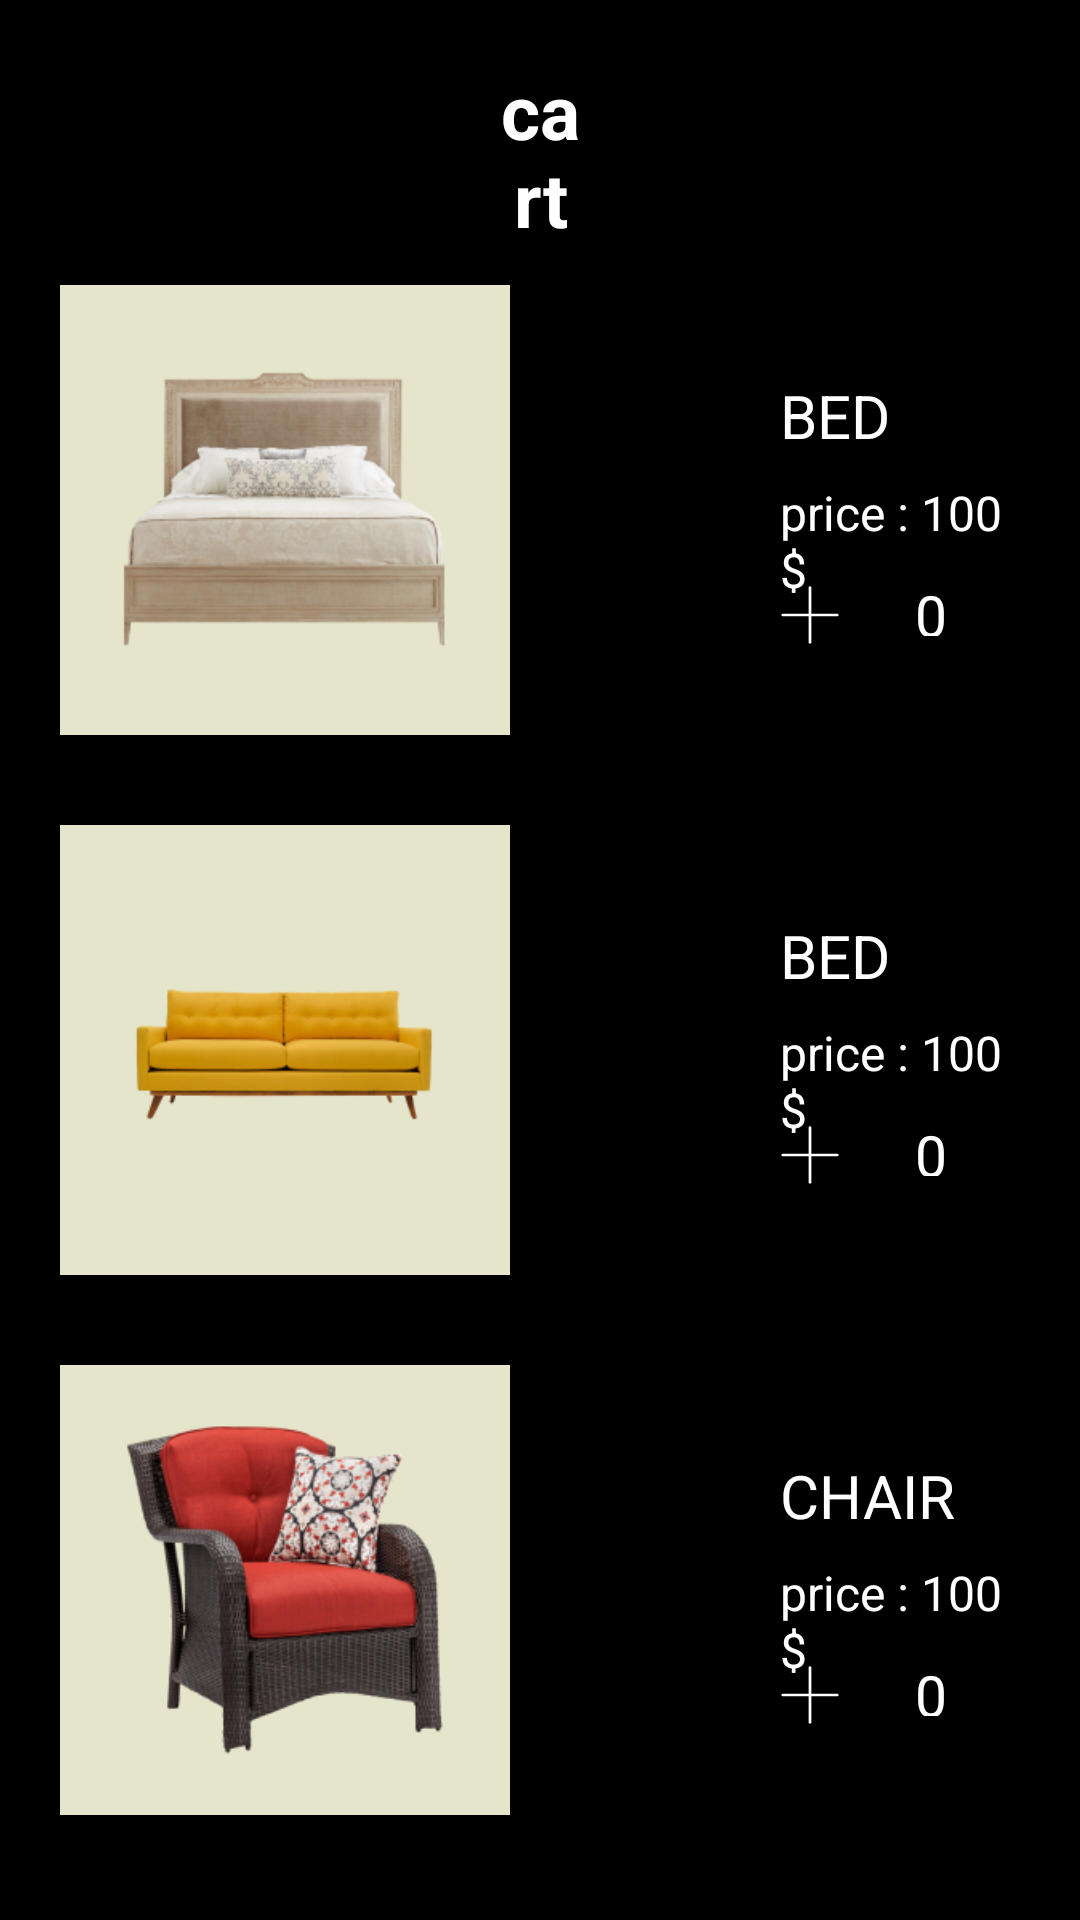

Named icons in this screenshot (1080px x 1920px) and their bounding boxes, (x1, y1, x2, y2):
addition: (781, 586, 839, 644), (781, 1126, 839, 1184), (781, 1666, 839, 1724)
